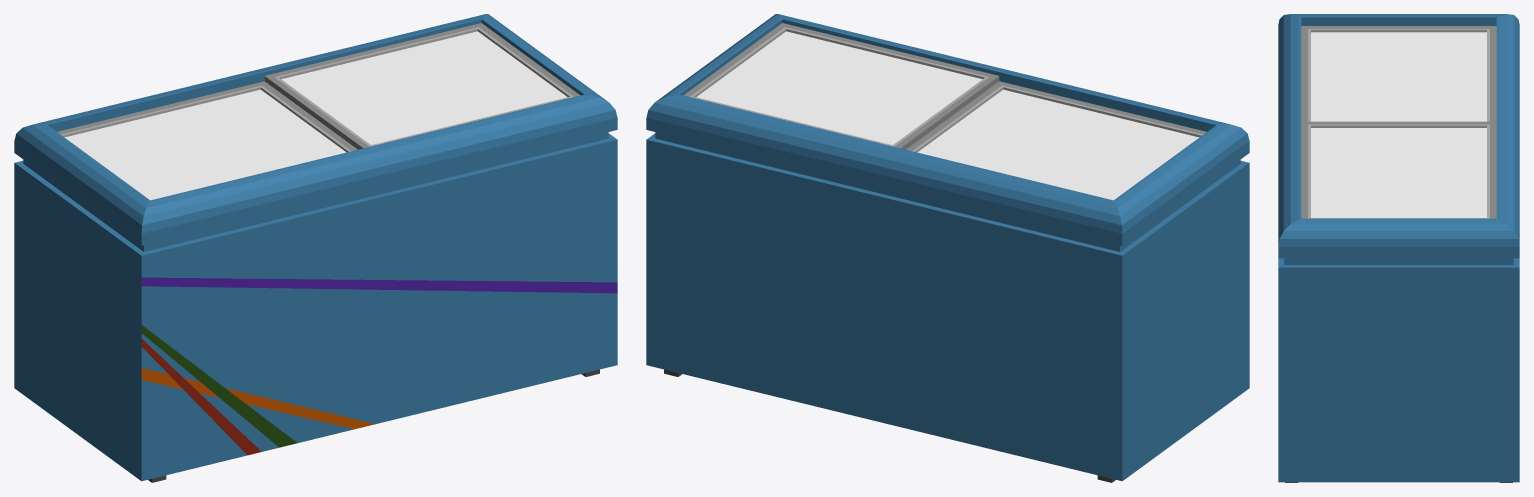
File: Ice Cream Freezer.fbx
3 renders of one model, left to right at view 1: azimuth 30°, elevation 25°; view 2: azimuth 150°, elevation 25°; view 3: azimuth 270°, elevation 25°, orthographic. The views are drawn at different scales.
Parts seen in each view (by area): view 1: Ice Cream Freezer; view 2: Ice Cream Freezer; view 3: Ice Cream Freezer.
Boxes of the visible parts, x1,y1,x2,y2 form: Ice Cream Freezer: [14, 14, 617, 482]; Ice Cream Freezer: [646, 14, 1249, 482]; Ice Cream Freezer: [1278, 14, 1519, 482].
Size of the model in its own units: 165 by 90.97 by 76.28.
Materials: 3 (2 with a texture image).
